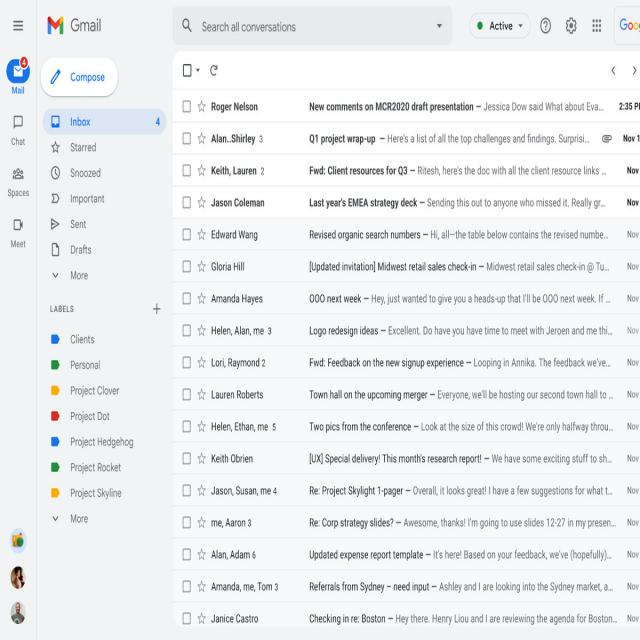button: (173, 602, 640, 640), (172, 282, 640, 316), (173, 88, 640, 122), (172, 217, 640, 250), (172, 122, 640, 154), (172, 346, 640, 378), (172, 380, 640, 412), (172, 538, 640, 570), (173, 476, 640, 508), (172, 186, 640, 217), (172, 251, 640, 282), (172, 412, 640, 442), (172, 508, 640, 538), (173, 155, 640, 185), (173, 444, 640, 474), (173, 571, 640, 601), (172, 316, 640, 345), (44, 182, 163, 212), (44, 506, 160, 535), (42, 452, 159, 480), (44, 109, 165, 135), (43, 260, 164, 286), (44, 157, 164, 183), (43, 211, 163, 237), (42, 57, 118, 98), (44, 479, 158, 506), (43, 4, 111, 49), (44, 401, 160, 427), (44, 428, 160, 453), (46, 348, 162, 372), (44, 136, 164, 159), (42, 238, 164, 260), (45, 379, 162, 401), (46, 329, 161, 350), (469, 12, 529, 39), (6, 210, 32, 258), (6, 159, 32, 206), (6, 107, 31, 152), (5, 56, 32, 96), (614, 7, 640, 46), (8, 9, 32, 44), (560, 9, 583, 43), (535, 10, 557, 44), (588, 10, 605, 41), (10, 526, 27, 554), (11, 565, 26, 591), (10, 600, 26, 624), (206, 58, 222, 82), (150, 296, 164, 321), (608, 58, 620, 81), (629, 57, 640, 82), (432, 17, 446, 35), (194, 61, 203, 79), (197, 162, 207, 178), (198, 130, 207, 146), (197, 356, 207, 370), (197, 418, 206, 433), (198, 258, 206, 274), (198, 546, 206, 562), (198, 610, 206, 626), (197, 196, 206, 210), (197, 291, 206, 305), (197, 323, 206, 337), (198, 98, 205, 114), (198, 452, 206, 466), (198, 228, 205, 242), (198, 483, 205, 497), (198, 515, 205, 529), (198, 579, 205, 593), (198, 389, 205, 401)
field: (173, 6, 451, 46), (182, 64, 192, 77), (183, 483, 190, 497), (183, 611, 190, 625), (183, 196, 190, 209), (183, 324, 190, 337), (183, 132, 190, 144), (183, 164, 190, 176), (183, 356, 190, 368), (183, 388, 190, 400), (183, 516, 190, 528), (183, 580, 190, 592), (182, 453, 190, 463), (183, 100, 190, 111), (183, 229, 190, 240), (183, 261, 190, 271), (183, 293, 190, 303), (183, 421, 190, 431), (183, 549, 190, 559)
